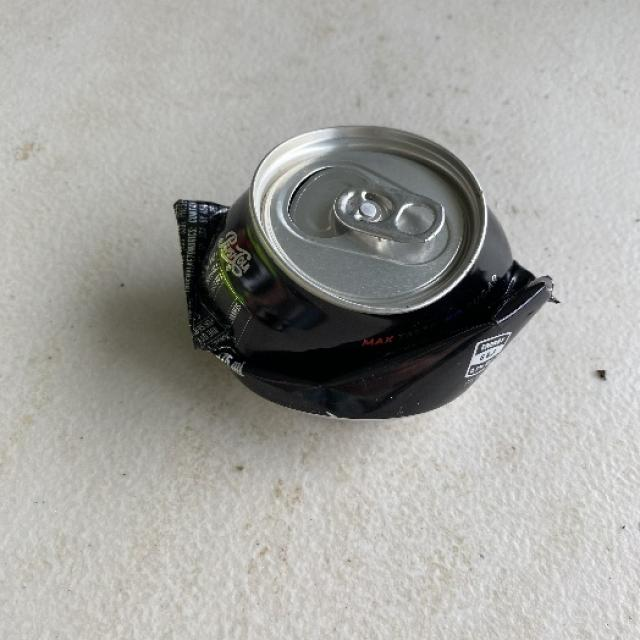metal: (172, 122, 558, 420)
